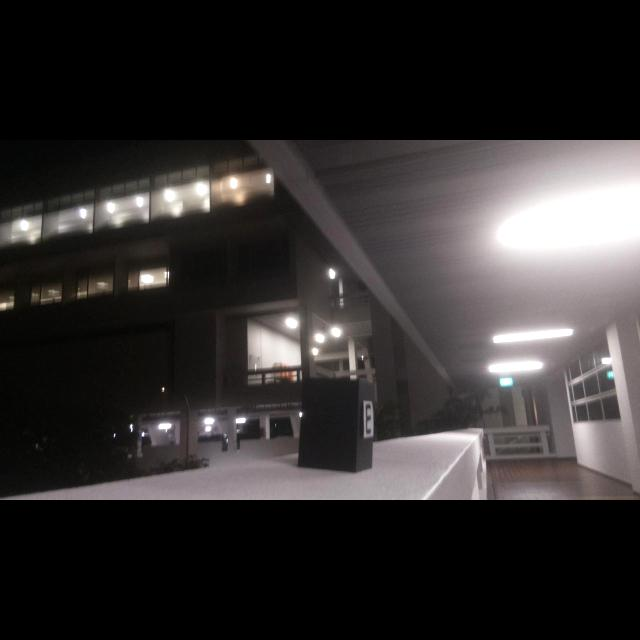E: (366, 404, 372, 434)
